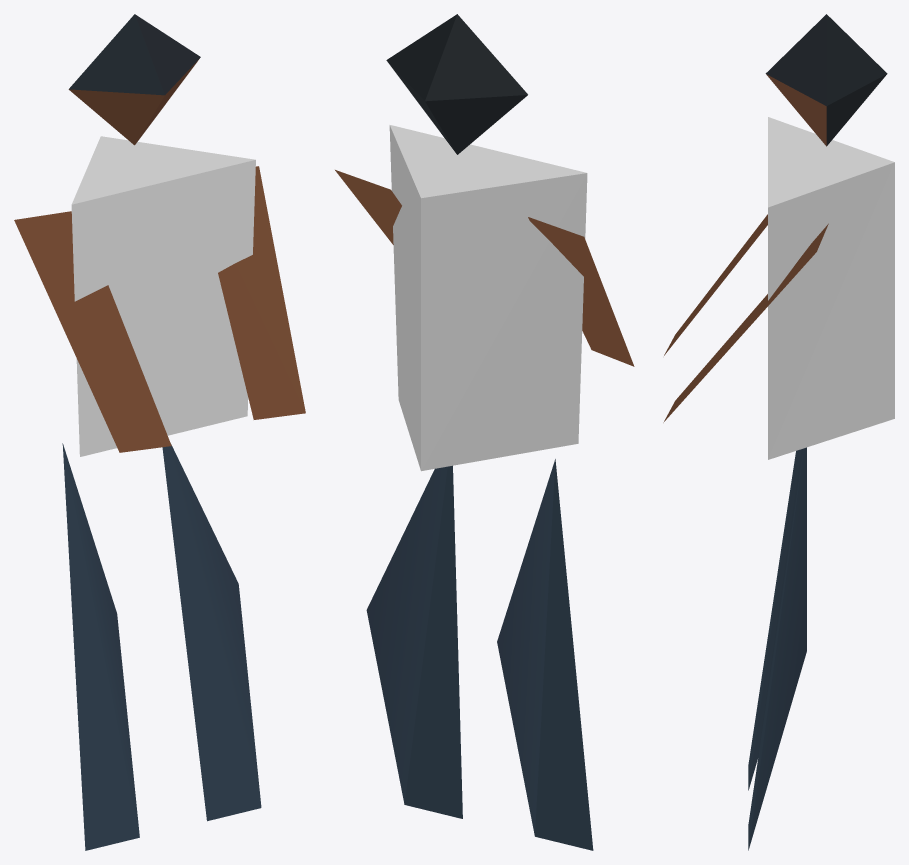
The model's file is fan-07.glb.
3 renders of one model, left to right at view 1: azimuth 30°, elevation 25°; view 2: azimuth 150°, elevation 25°; view 3: azimuth 270°, elevation 25°, orthographic. The views are drawn at different scales.
Parts seen in each view (by area): view 1: fan-07; view 2: fan-07; view 3: fan-07.
Part boxes in pixels (x1,y1,x2,y2): fan-07: (14,14,305,850); fan-07: (335,14,634,850); fan-07: (663,14,894,850).
Size of the model in its own units: 0.57 by 1.79 by 0.475.
